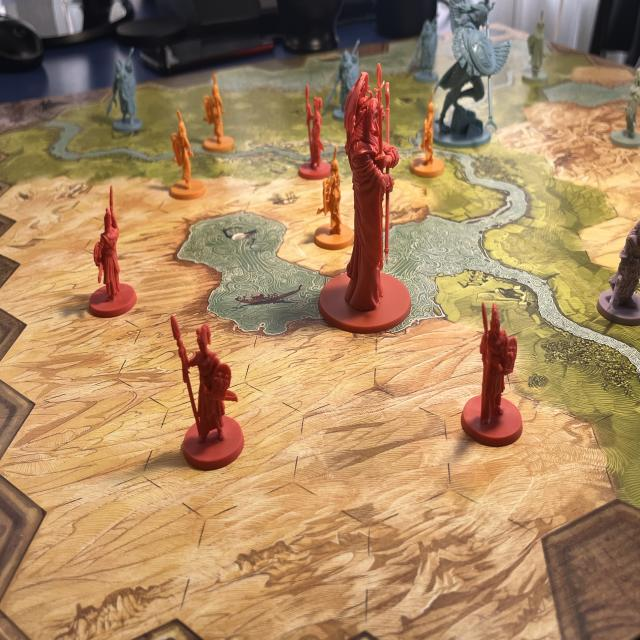amon: (318, 55, 419, 335)
amon_follower: (170, 310, 247, 473), (460, 290, 527, 448), (77, 176, 137, 318), (299, 78, 341, 180)
isis: (421, 0, 513, 153)
isis_follower: (102, 46, 146, 134), (410, 17, 442, 85)
